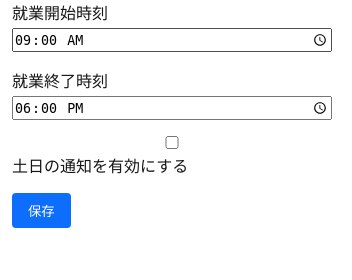
SettingsForm › 保存すると入力値でupdateSettingsが呼ばれる
The image size is (352, 280).
Click the checkbox labelled "土日の通知を有効にする" at [172, 142], box [12, 136, 332, 149]
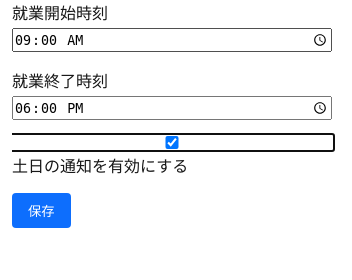
Click the button "保存" at [41, 210], box [12, 193, 71, 228]
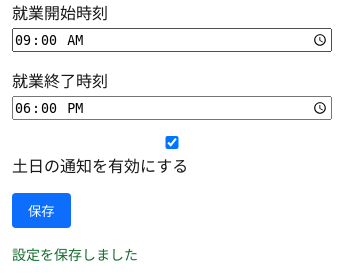
Expected: the text "設定を保存しました" is shown, [12, 247, 138, 263]
